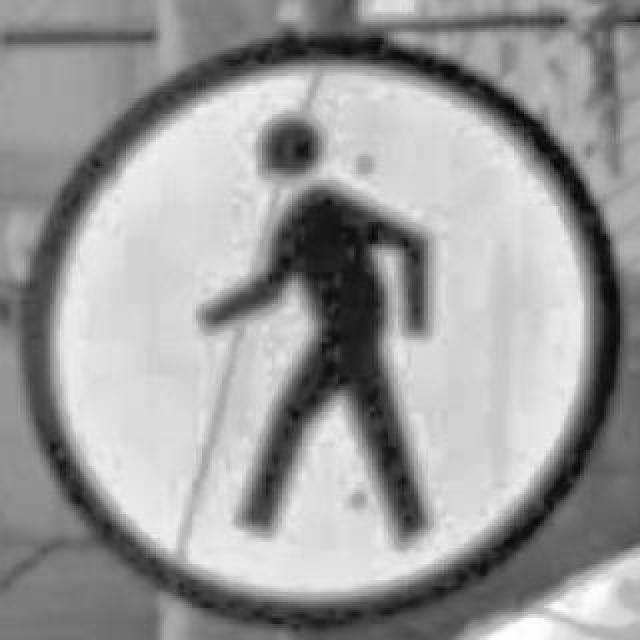pedestrian crossing: (18, 24, 618, 628)
